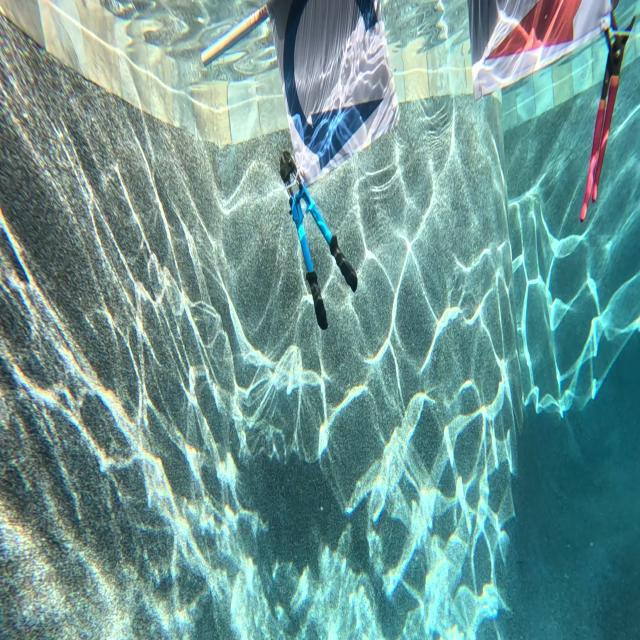blue_side: (278, 0, 384, 177)
red_side: (473, 0, 590, 64)
